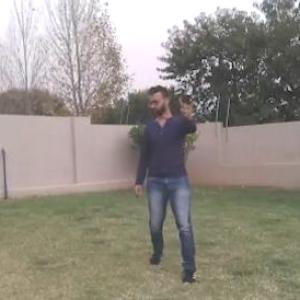takeoff-hand: (168, 88, 202, 124)
